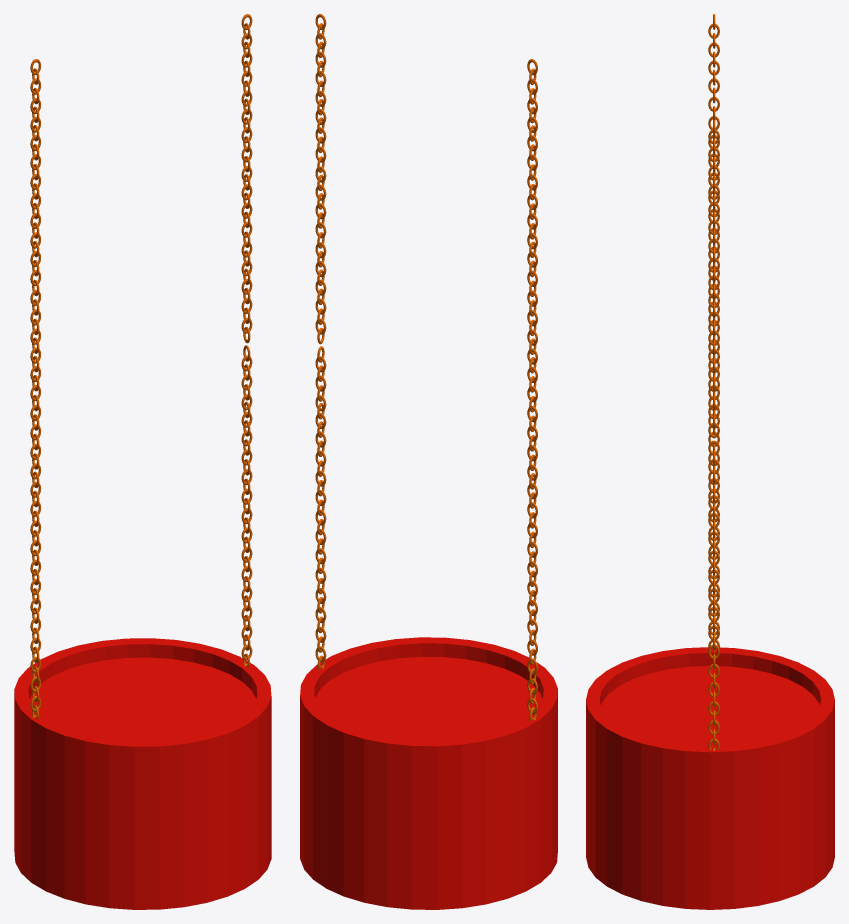
File: Chain.fbx
The picture shows the model from 3 angles, left to right: view 1: azimuth 30°, elevation 25°; view 2: azimuth 150°, elevation 25°; view 3: azimuth 270°, elevation 25°; orthographic projection. The views are drawn at different scales.
Visible parts, largest first — view 1: Cylinder.012; view 2: Cylinder.012; view 3: Cylinder.012.
Part boxes in pixels (<box>): Cylinder.012: <box>14,638,271,909</box>; Cylinder.012: <box>300,637,557,909</box>; Cylinder.012: <box>586,647,834,909</box>.
Size of the model in its own units: 932 by 3276 by 932.
